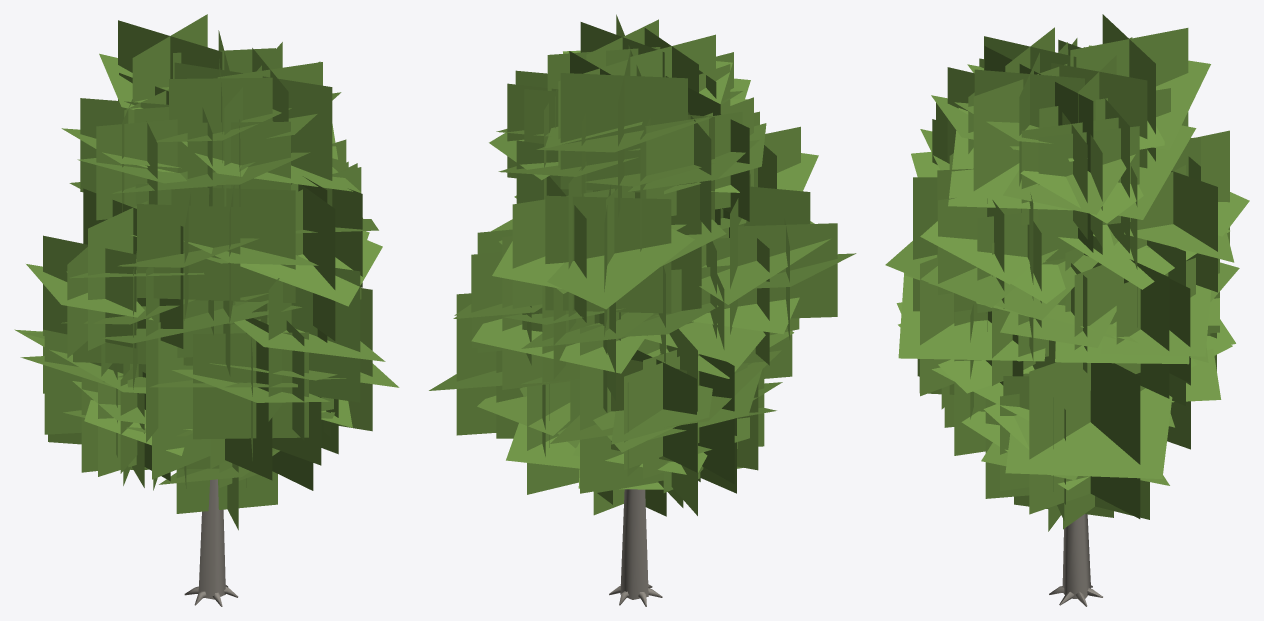
File: tilleul_3_loin.glb
3 renders of one model, left to right at view 1: azimuth 30°, elevation 25°; view 2: azimuth 150°, elevation 25°; view 3: azimuth 270°, elevation 25°, orthographic.
Visible parts, largest first — view 1: Tilleul_T3_Leger_Loin; view 2: Tilleul_T3_Leger_Loin; view 3: Tilleul_T3_Leger_Loin.
Part boxes in pixels (left/top/right/bottom): Tilleul_T3_Leger_Loin: left=14, top=14, right=399, bottom=606; Tilleul_T3_Leger_Loin: left=429, top=14, right=856, bottom=606; Tilleul_T3_Leger_Loin: left=885, top=14, right=1249, bottom=606.
Bounding box in the file's own units: 10.22 × 15.16 × 9.11.
